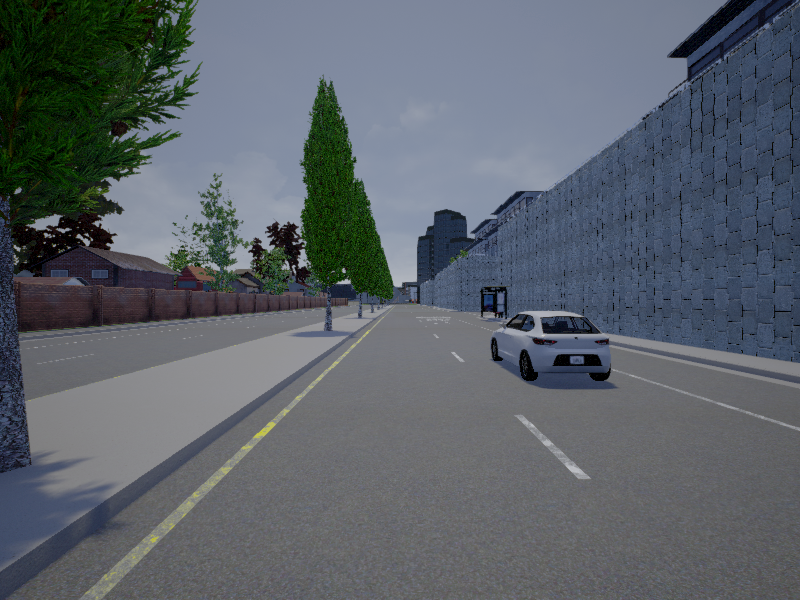Benign: (489, 312, 612, 384)
